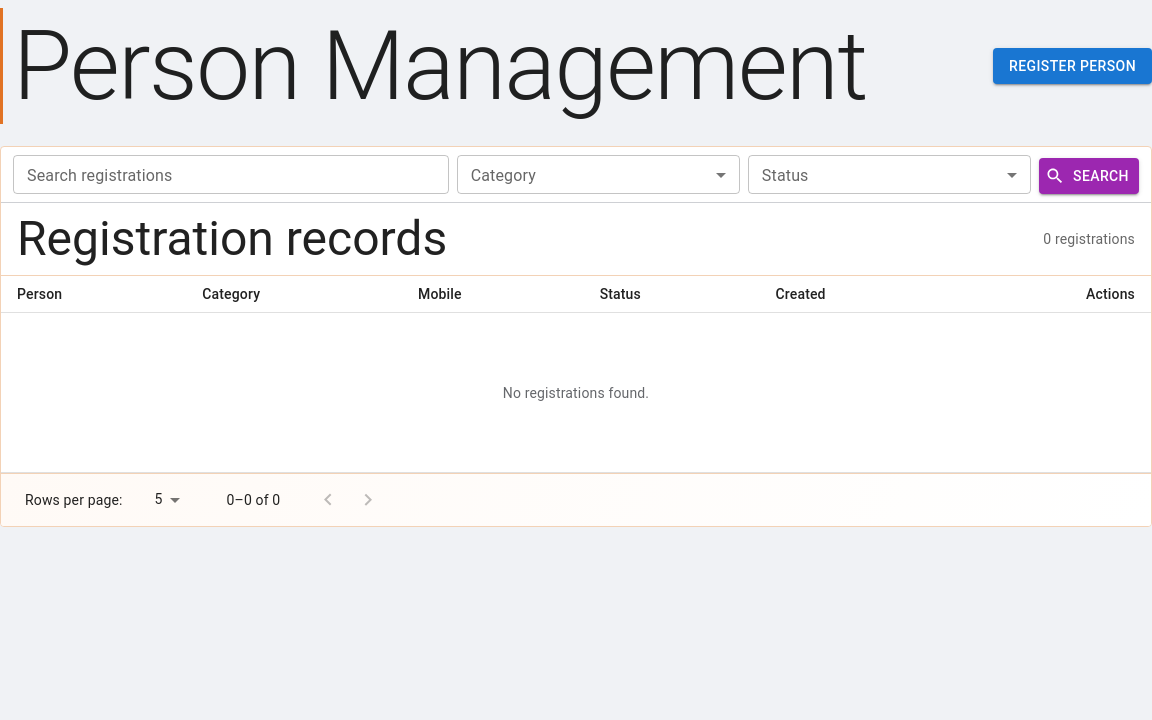
Test: keeps the selected status and applies it only after Search is clicked
This screenshot has width=1152, height=720.
Click the 2nd dropdown named "Status" at (890, 174), box [748, 155, 1031, 194]
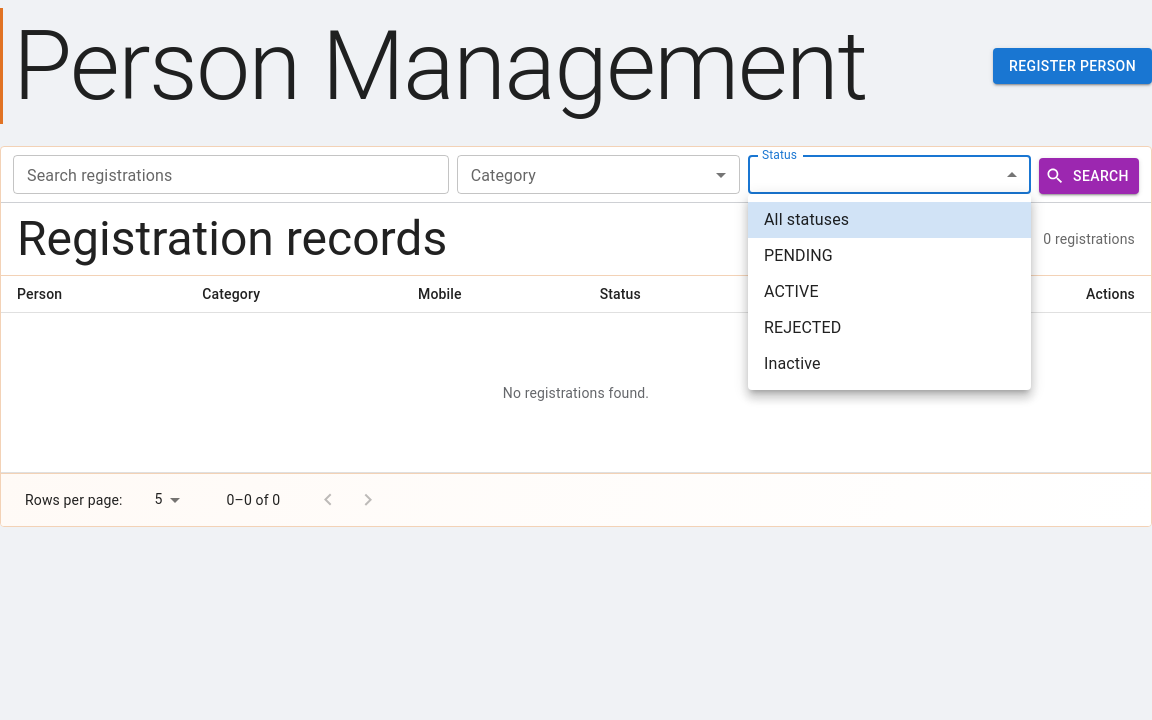
Click the option "Inactive" at (792, 364), box [764, 354, 821, 373]
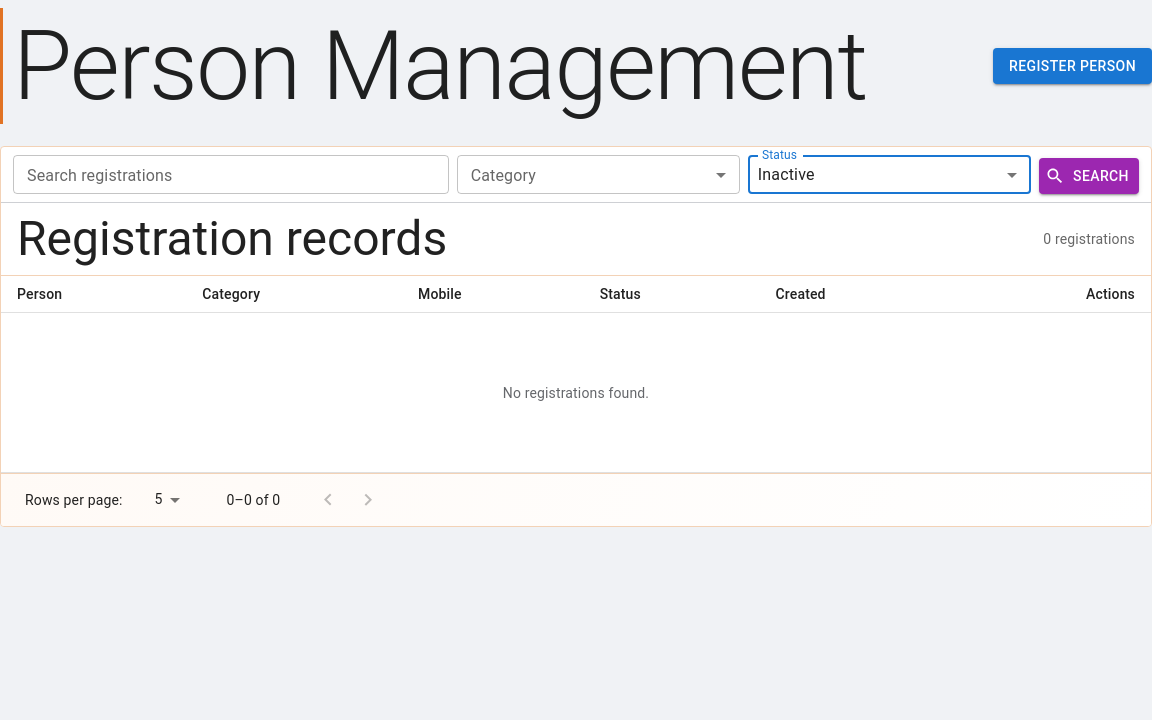
Expected: the dropdown named "Status" reads "Inactive", [758, 165, 815, 184]
Click the button "Search" at (1089, 176), box [1039, 158, 1139, 194]
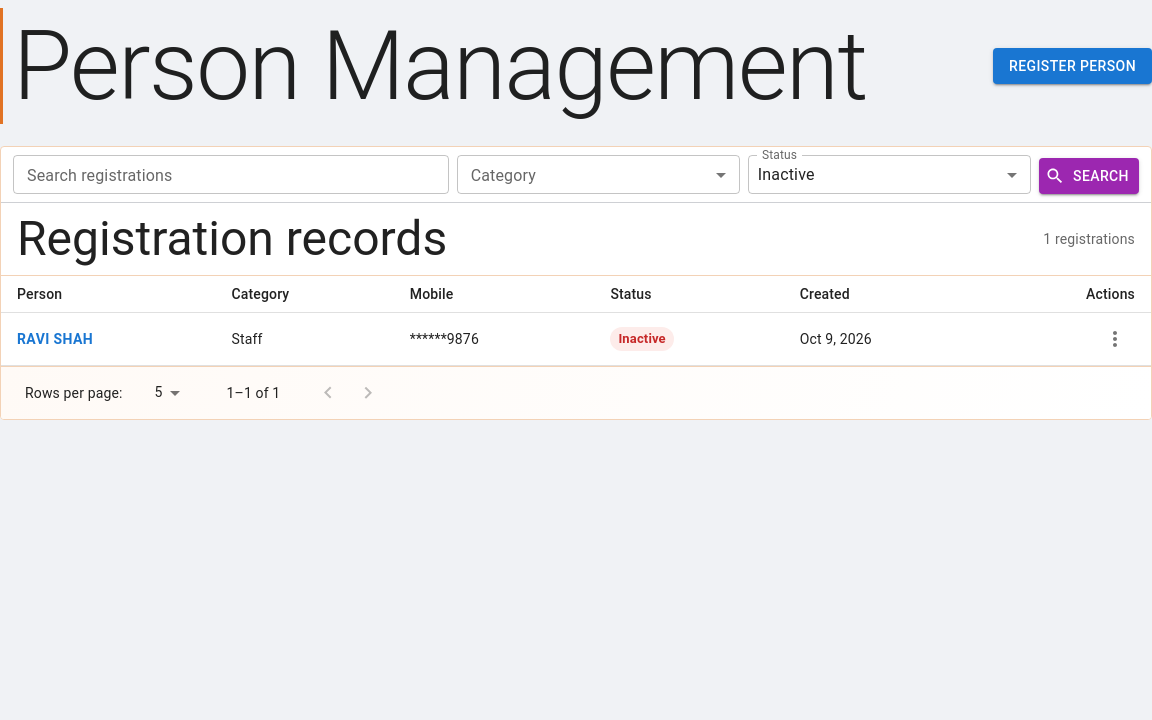
Expected: the dropdown named "Status" reads "Inactive", [758, 165, 815, 184]
Expected: the link "Ravi Shah" is shown, [17, 327, 93, 351]
